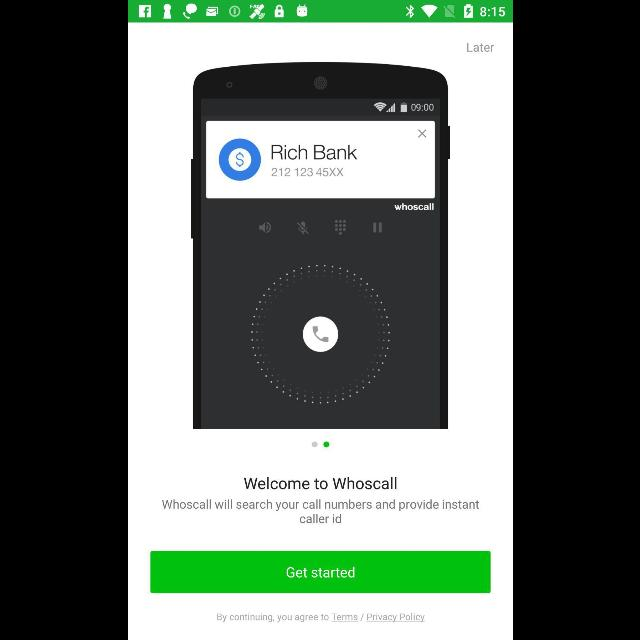image: (190, 62, 450, 430)
pageindicator: (311, 442, 329, 448)
text: (161, 499, 479, 523), (216, 612, 424, 624), (242, 476, 396, 489), (466, 42, 494, 52)
textbutton: (150, 551, 490, 593)
uppertaskbar: (128, 1, 512, 23)
